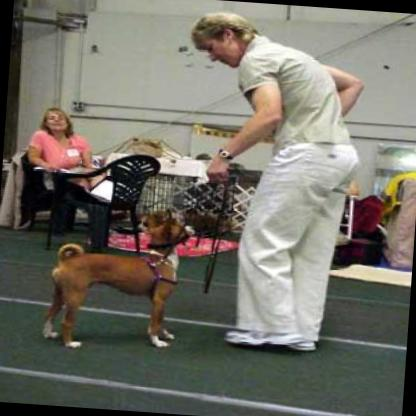basenji: (37, 198, 198, 356)
